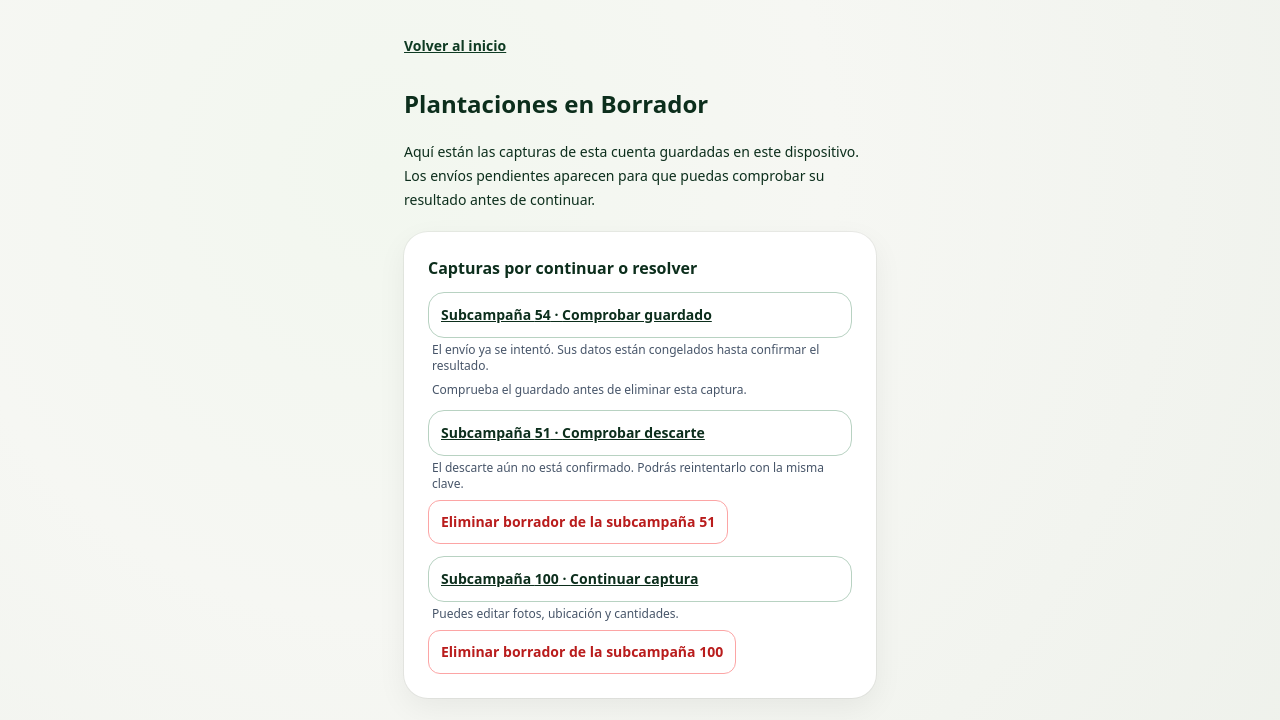
plantaciones en borrador › pide confirmación antes de eliminar y retira la fila sólo tras la respuesta confirmada
Check: the link "Subcampaña 100 · Continuar captura" is shown, box [428, 556, 852, 602]
Step 1. Click the button "Eliminar borrador de la subcampaña 100" → click(582, 652), box [428, 630, 736, 674]
(page scrolled)
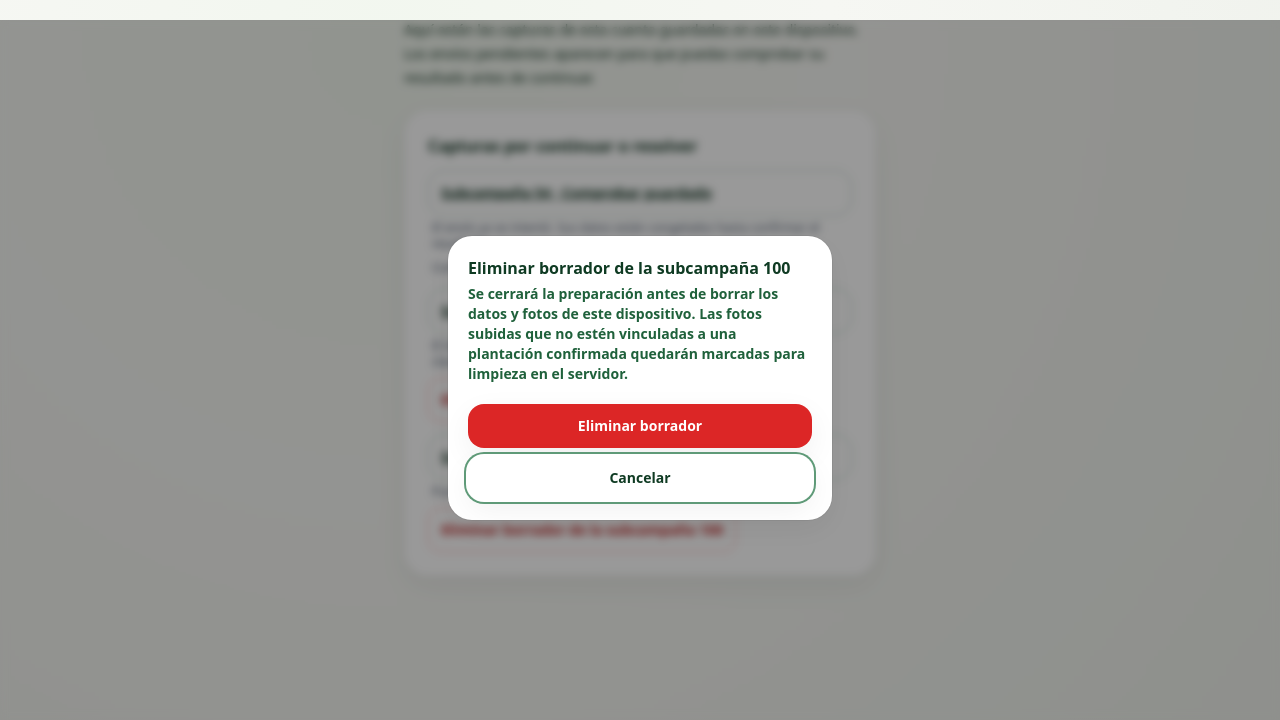
Check: the dialog "Eliminar borrador de la subcampaña 100" is shown
Step 2. Click the button "Cancelar" → click(640, 478), box [468, 456, 812, 500]
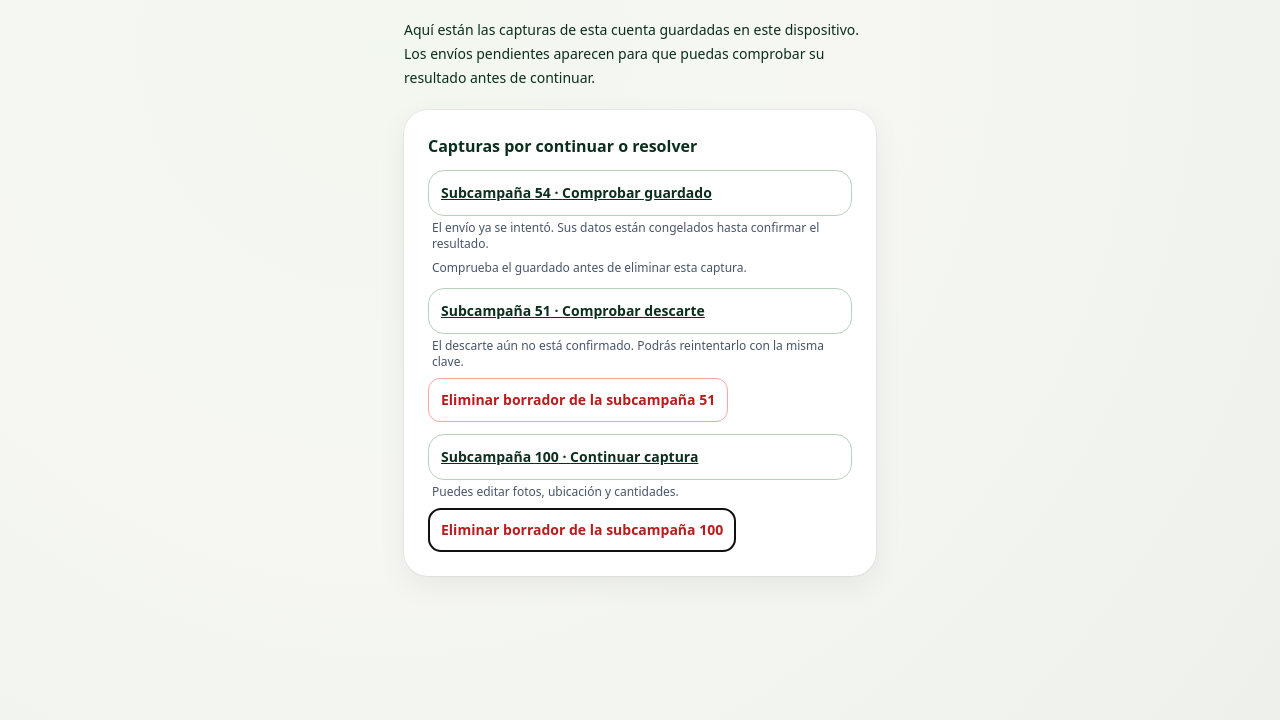
Step 3. Click the button "Eliminar borrador de la subcampaña 100" → click(582, 530), box [428, 508, 736, 552]
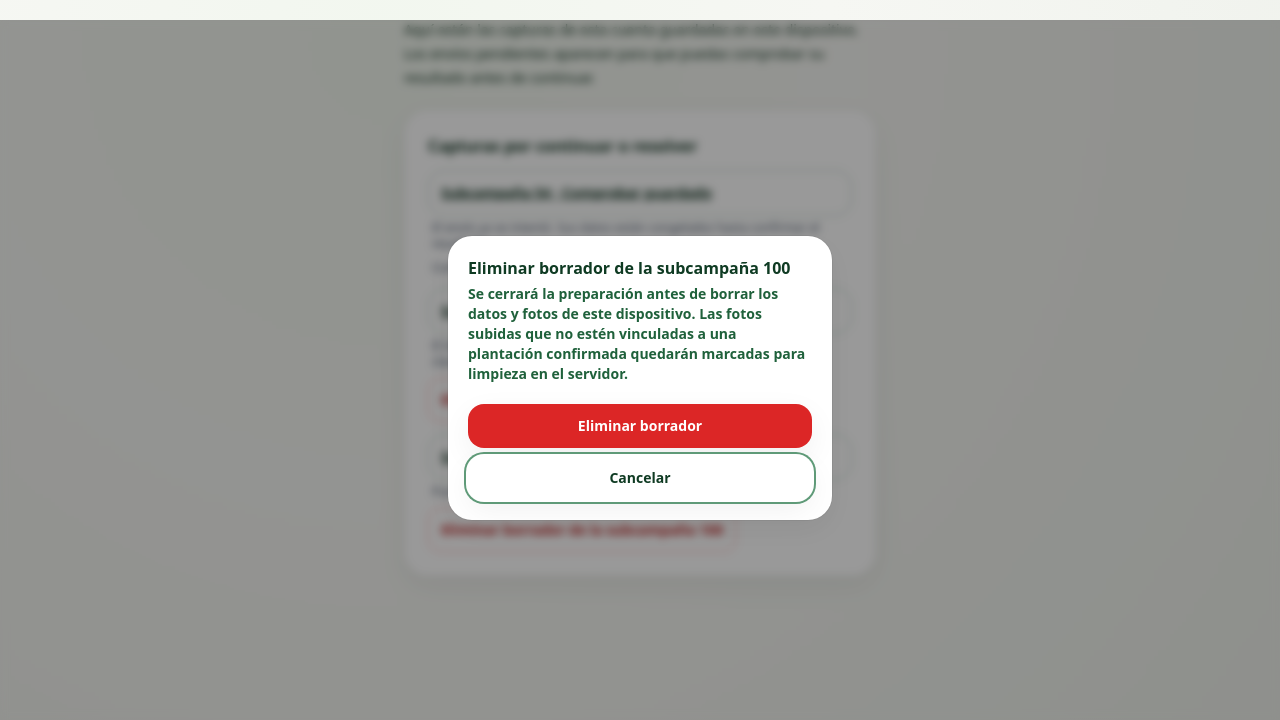
Step 4. Click the button "Eliminar borrador" → click(640, 426), box [468, 404, 812, 448]
(page scrolled)
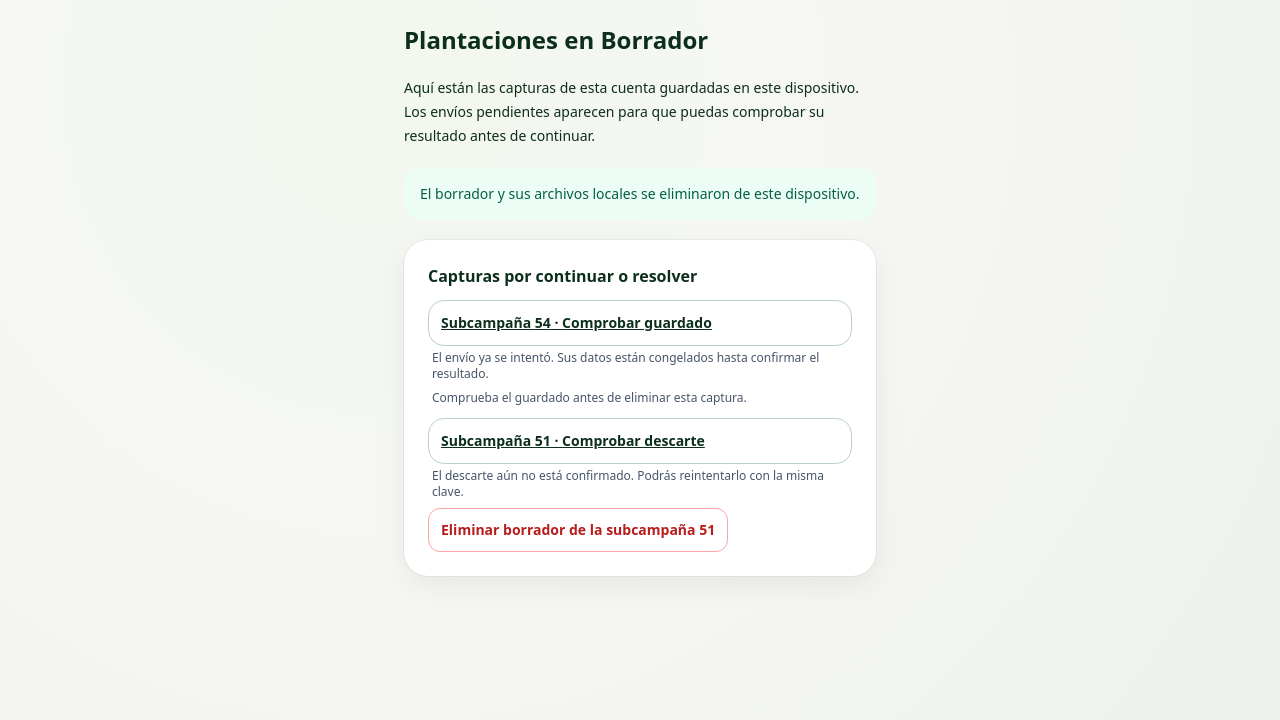
Check: the link "Subcampaña 100 · Continuar captura" is gone
Check: the message shows "archivos locales se eliminaron", box [420, 184, 860, 203]
